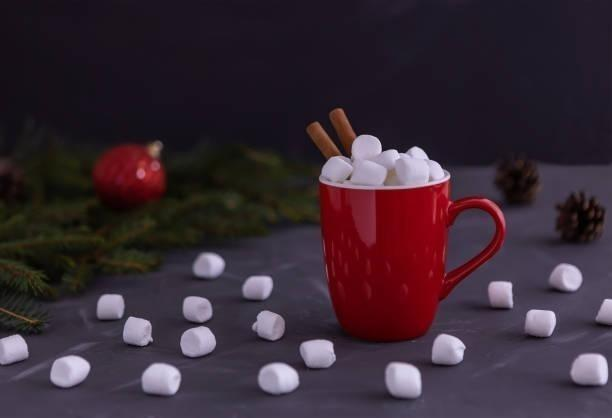cup-handle: (316, 152, 507, 343)
